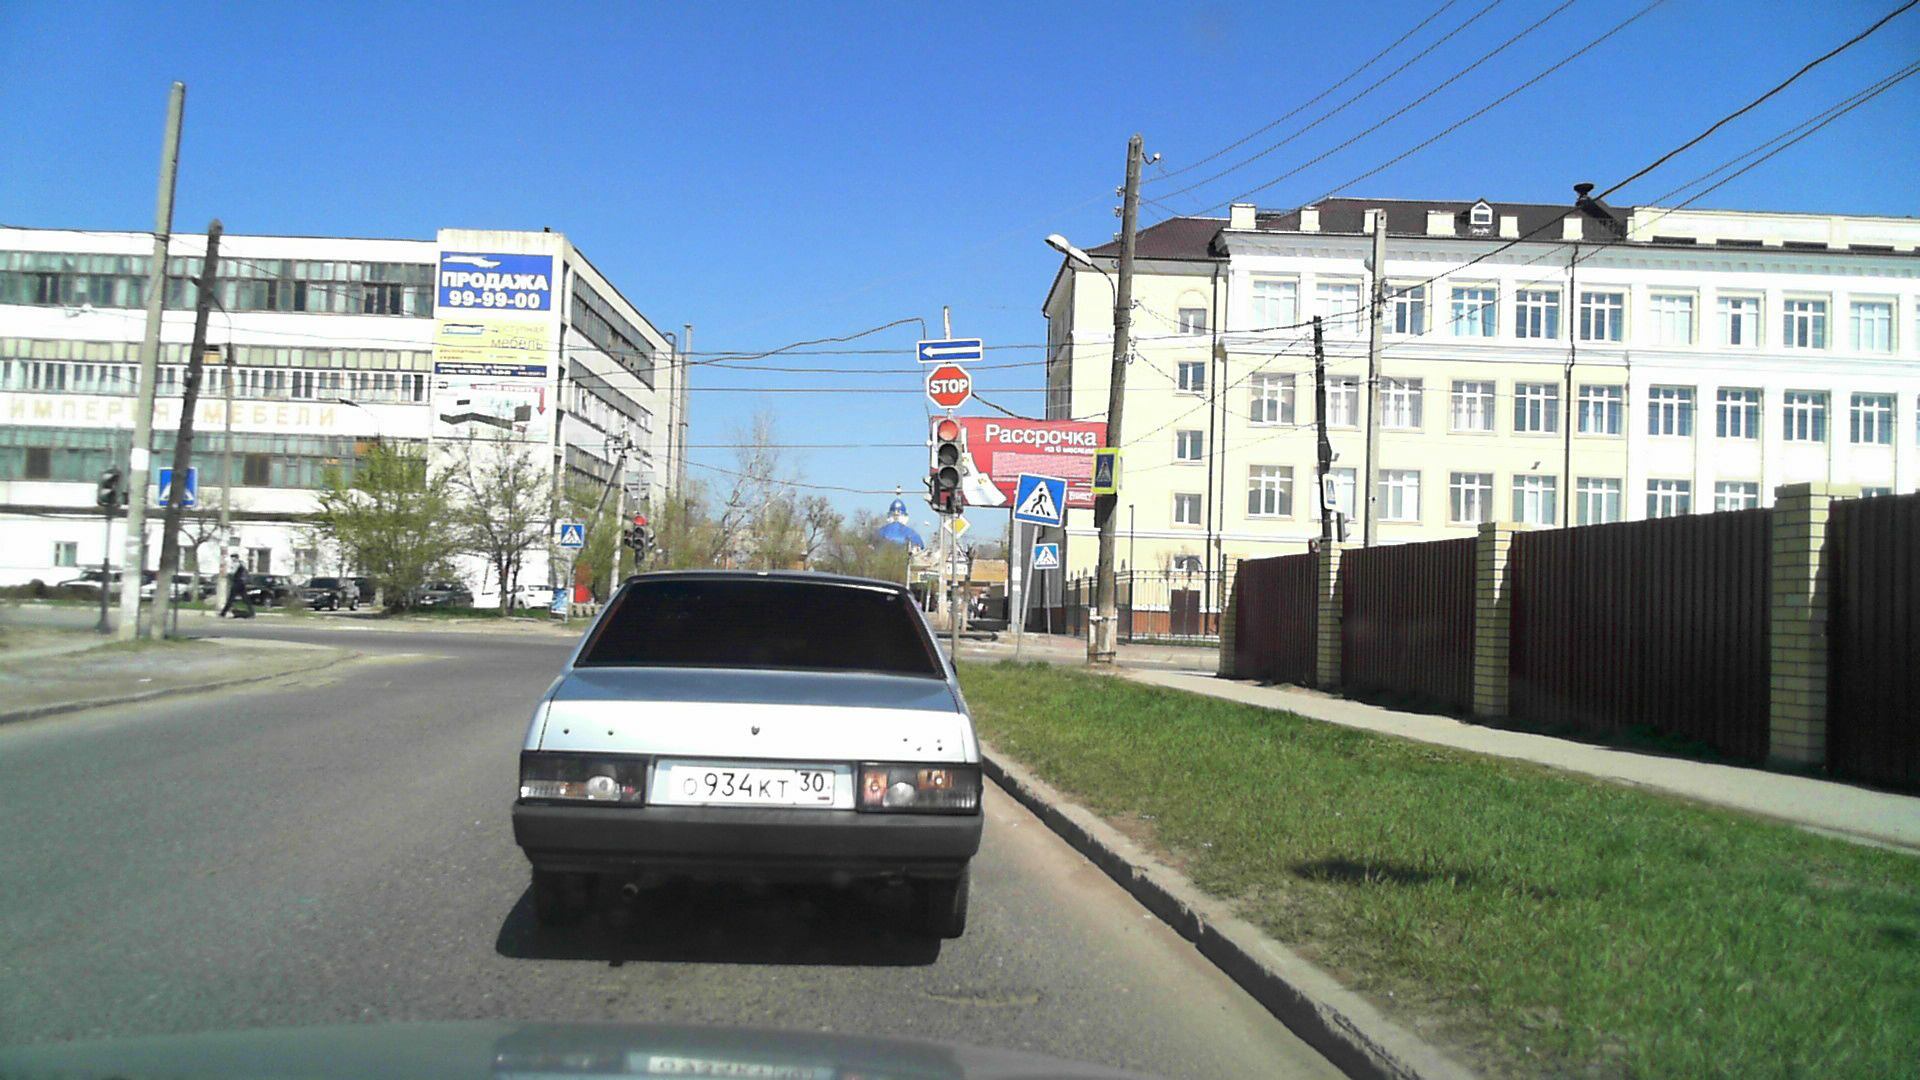One-Way Traffic: (916, 339, 982, 361)
Pedestrian Crossing: (1017, 473, 1062, 524)
